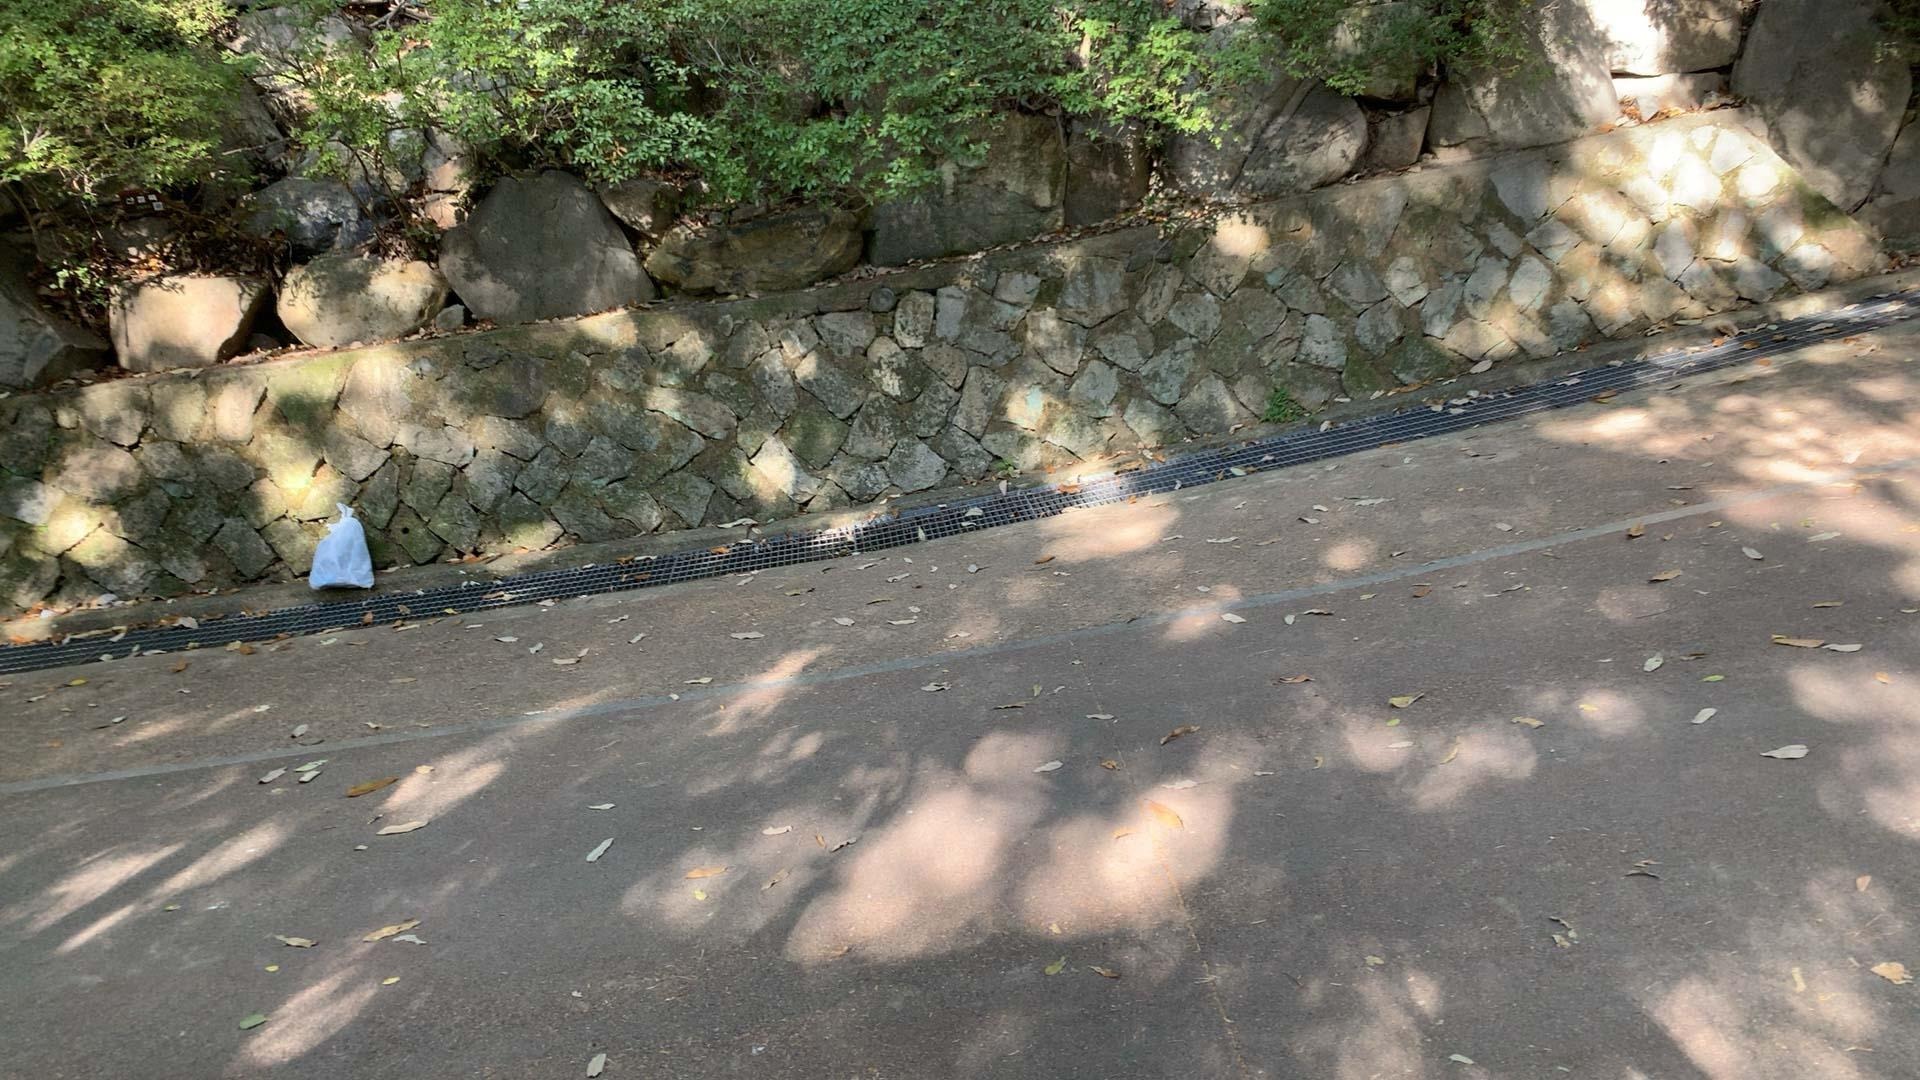white_bag: (305, 497, 382, 593)
